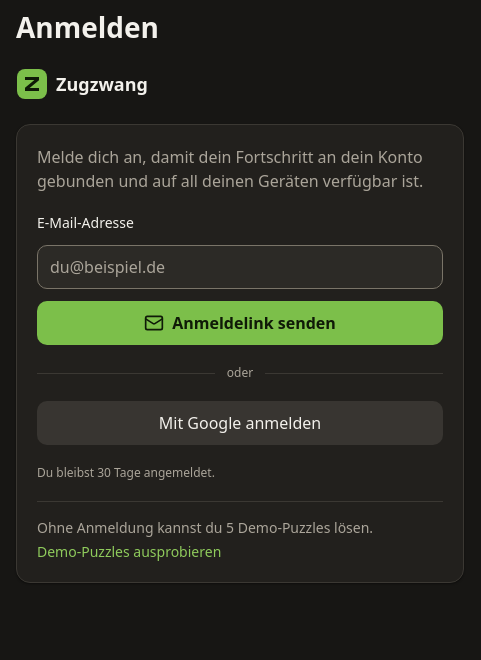
LoginPage › validates the e-mail address and shows German errors
In the field labelled "E-Mail-Adresse": (240, 267) [37,245,443,289], type "lea@"
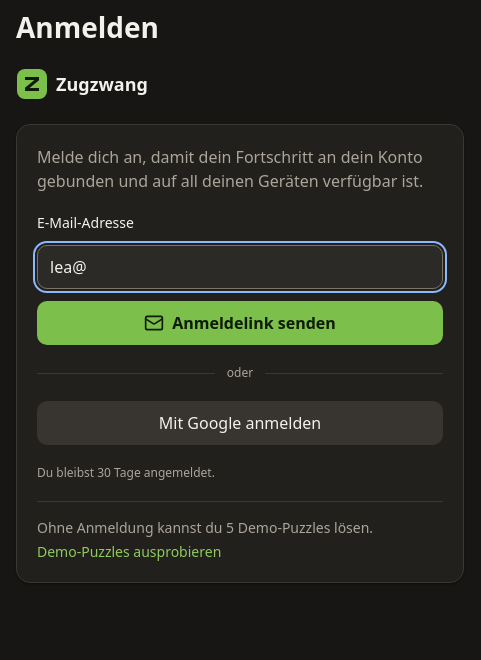
Click the button "Anmeldelink senden": (240, 323) [37,301,443,345]
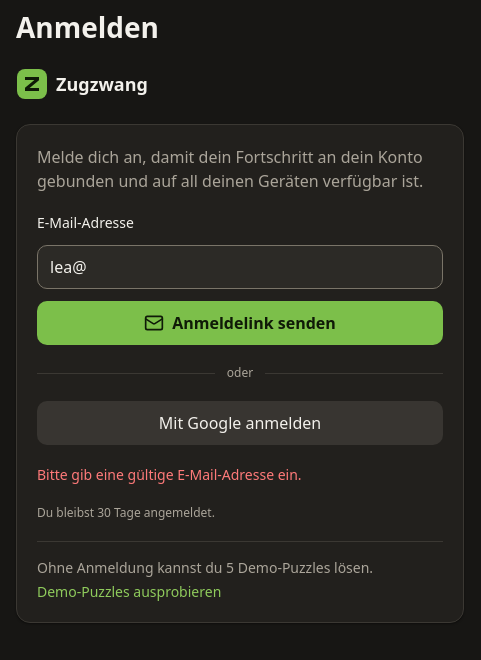
Result: the message reads "Bitte gib eine gültige E-Mail-Adresse ein." at [37,465,302,484]
Replace the text in the field labelled "E-Mail-Adresse" with "lea@example.com": (240, 267) [37,245,443,289]
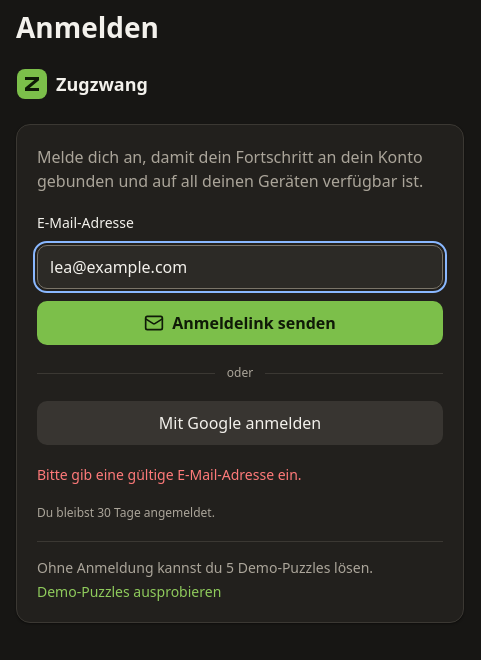
Click the button "Anmeldelink senden": (240, 323) [37,301,443,345]
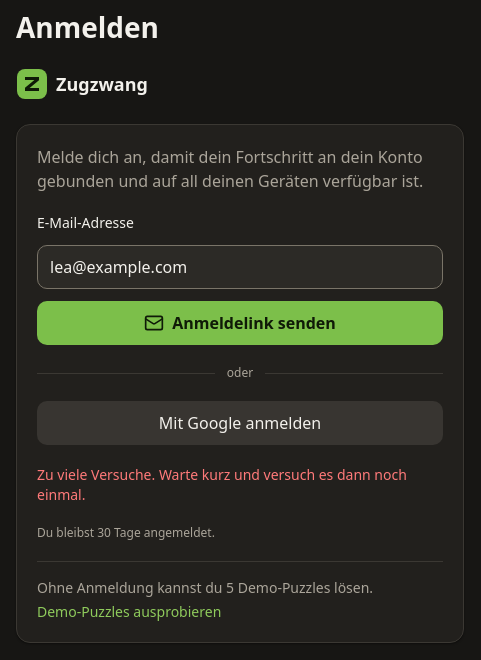
Expected: the text "Du bleibst 30 Tage angemeldet." is shown, [37,524,215,541]
Result: the message shows "Zu viele Versuche" at [37,465,407,504]
